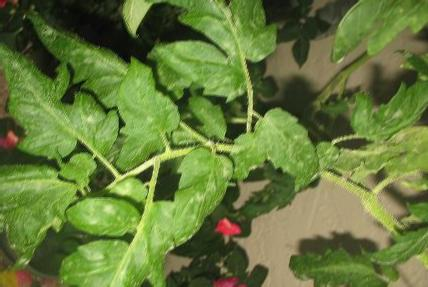Tomato mold leaf: (119, 0, 281, 98), (0, 36, 120, 168), (167, 150, 239, 247), (48, 234, 179, 287), (0, 164, 67, 264), (324, 0, 428, 61), (344, 77, 428, 143), (254, 105, 319, 186), (62, 188, 142, 237)
